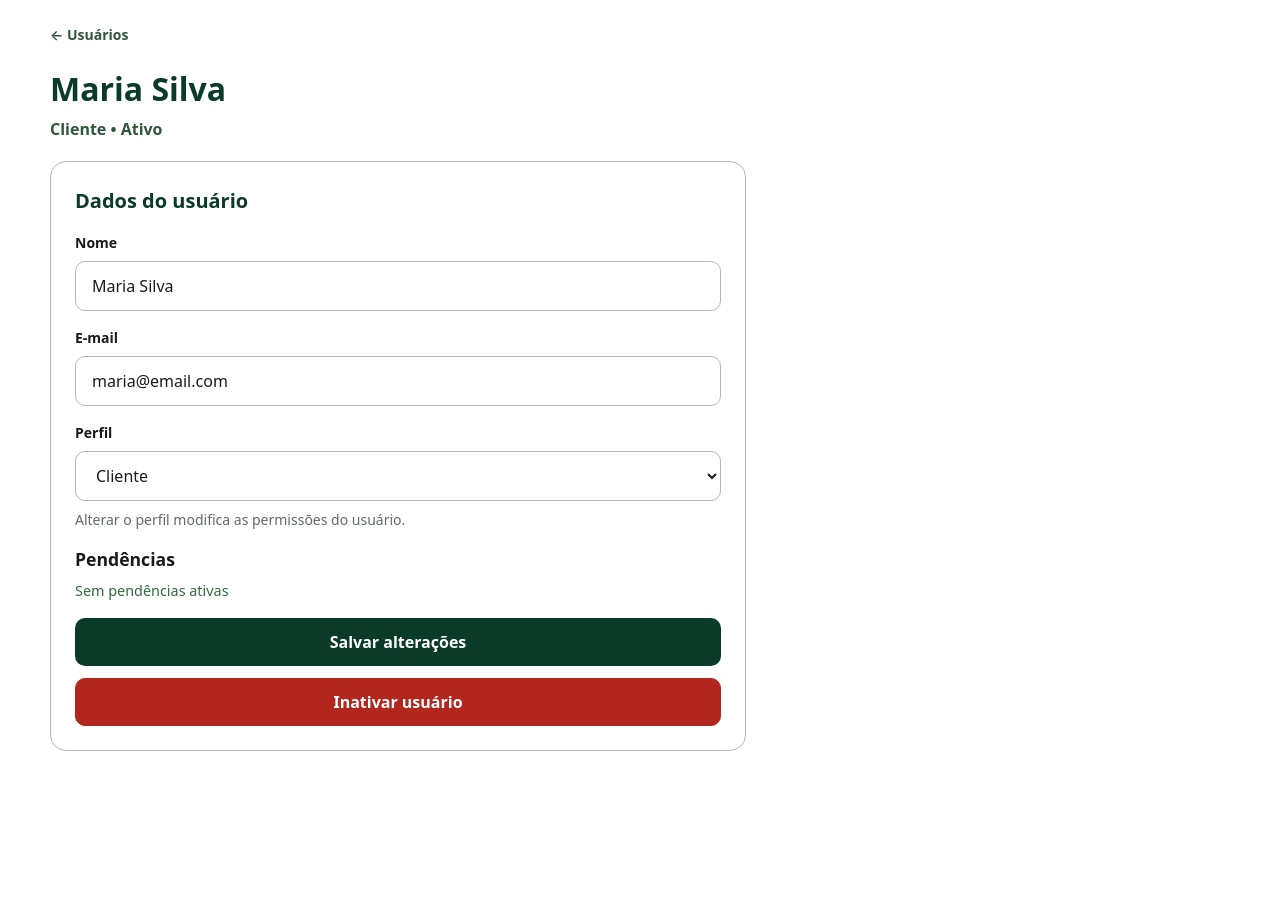
Test: UserEditComponent › envia a mudança de perfil somente após confirmar
Select "Vendedor" in the dropdown with id "user-role" at (398, 476), box [76,452,720,500]
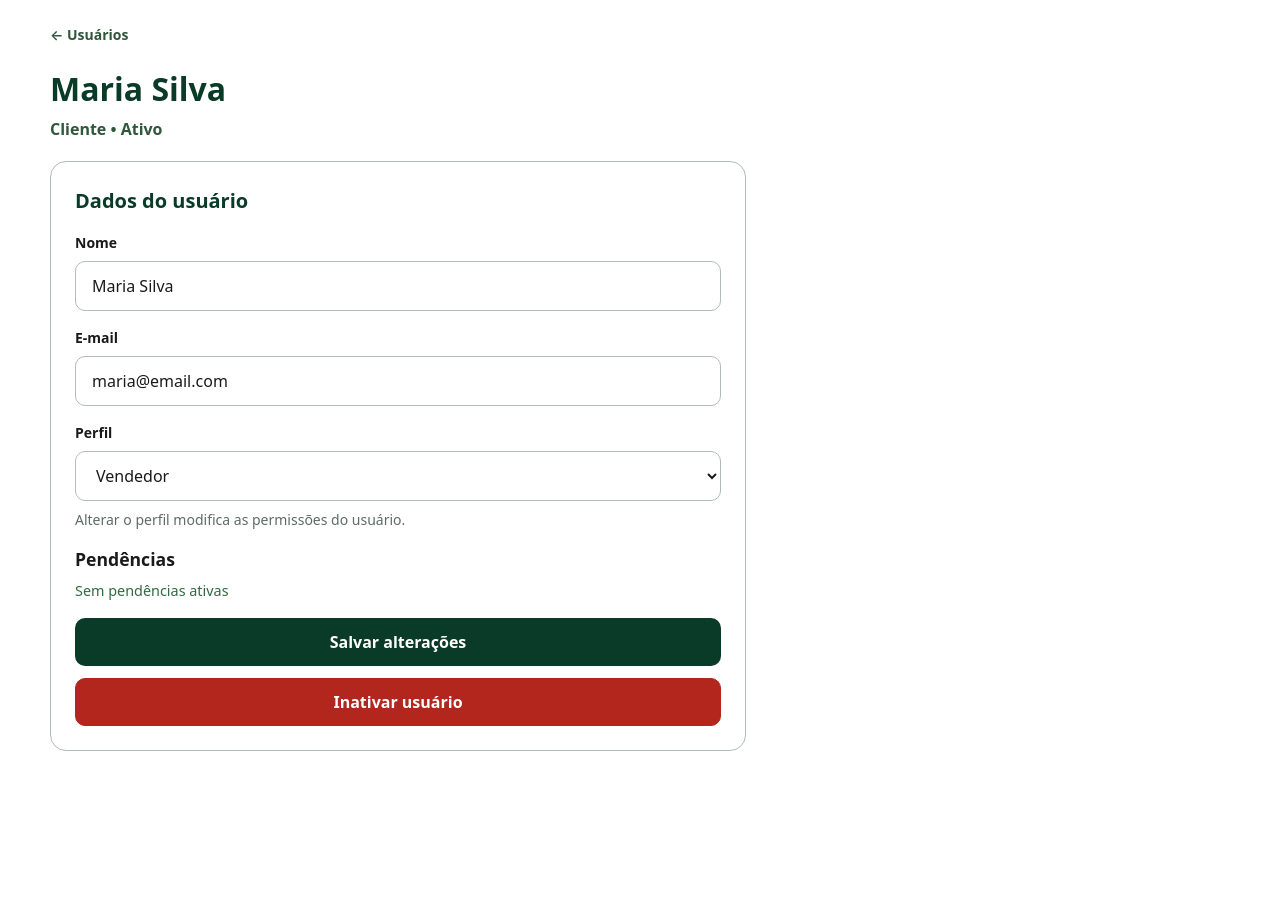
Click the button "Salvar alterações" at (398, 642), box [75,618,721,666]
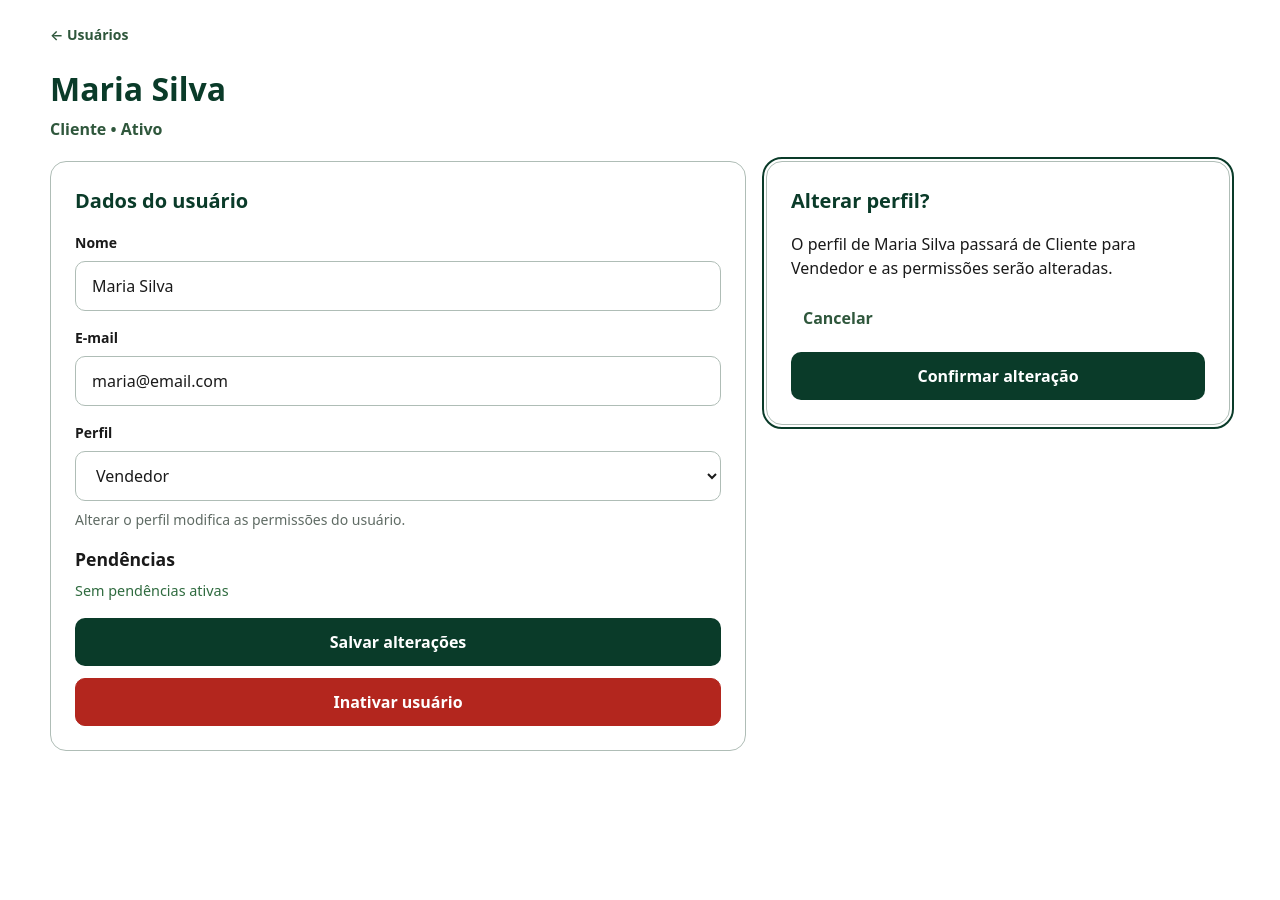
Click the button "Confirmar alteração" at (998, 376), box [791,352,1205,400]
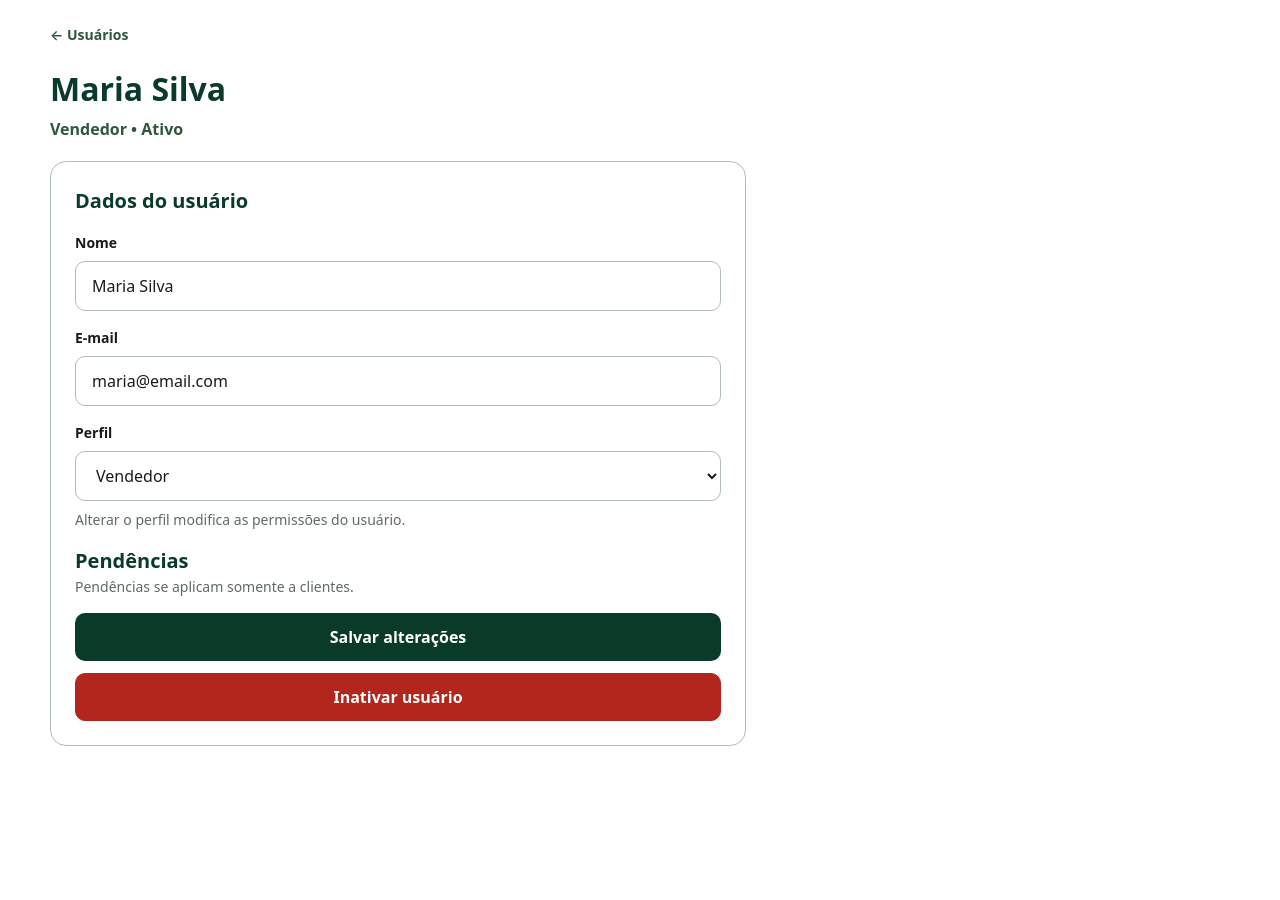
Expected: the text "Vendedor • Ativo" is shown, [50,118,183,140]
